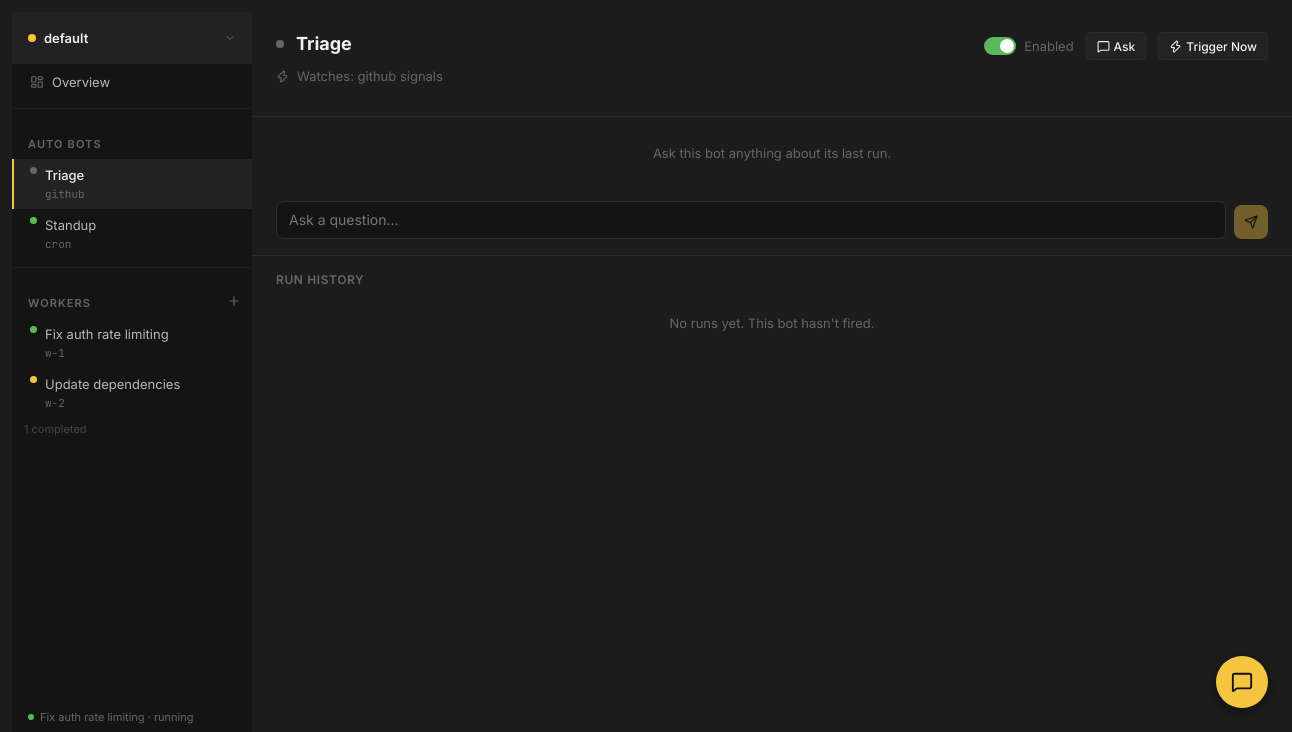
Test: App shell › switches between workers
Click the button "Fix auth rate limiting w-1" at (132, 343), box left=12, top=318, right=252, bottom=368
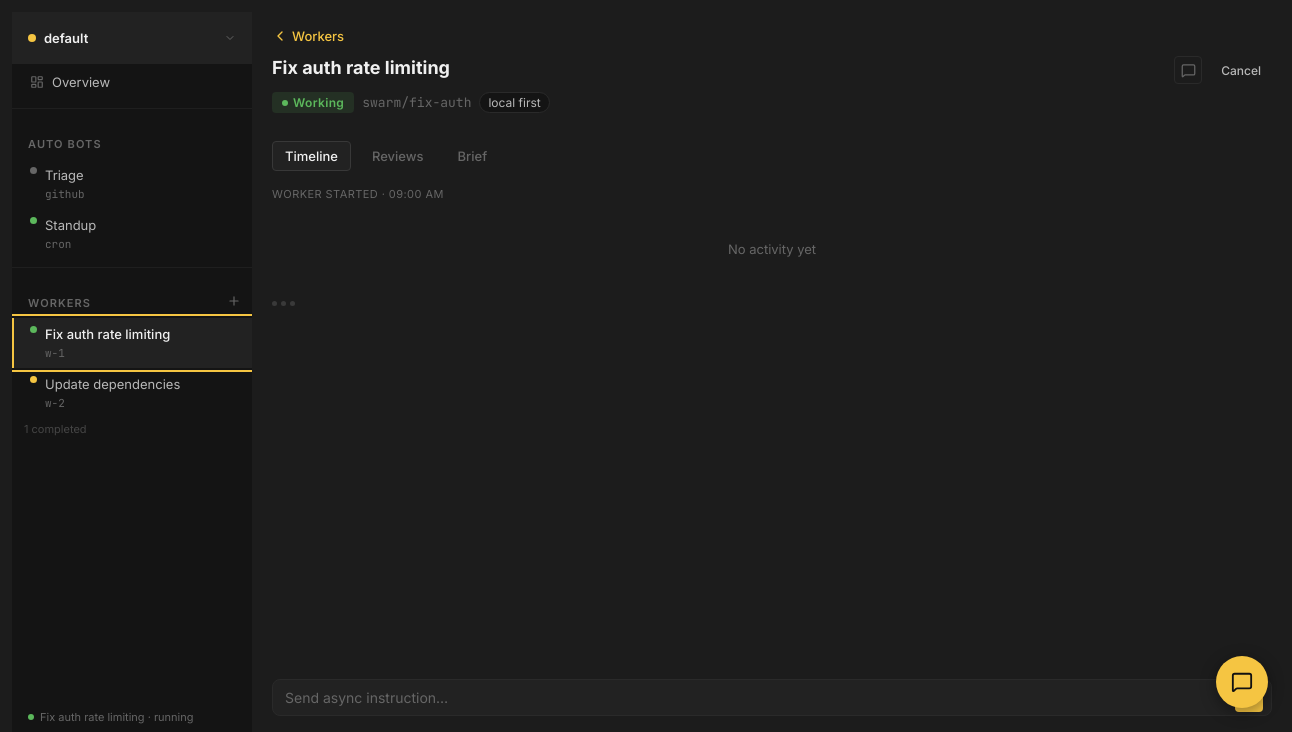
Expected: the heading "Fix auth rate limiting" is shown, left=272, top=57, right=450, bottom=78
Click the button "Update dependencies w-2" at (132, 393), box left=12, top=368, right=252, bottom=418
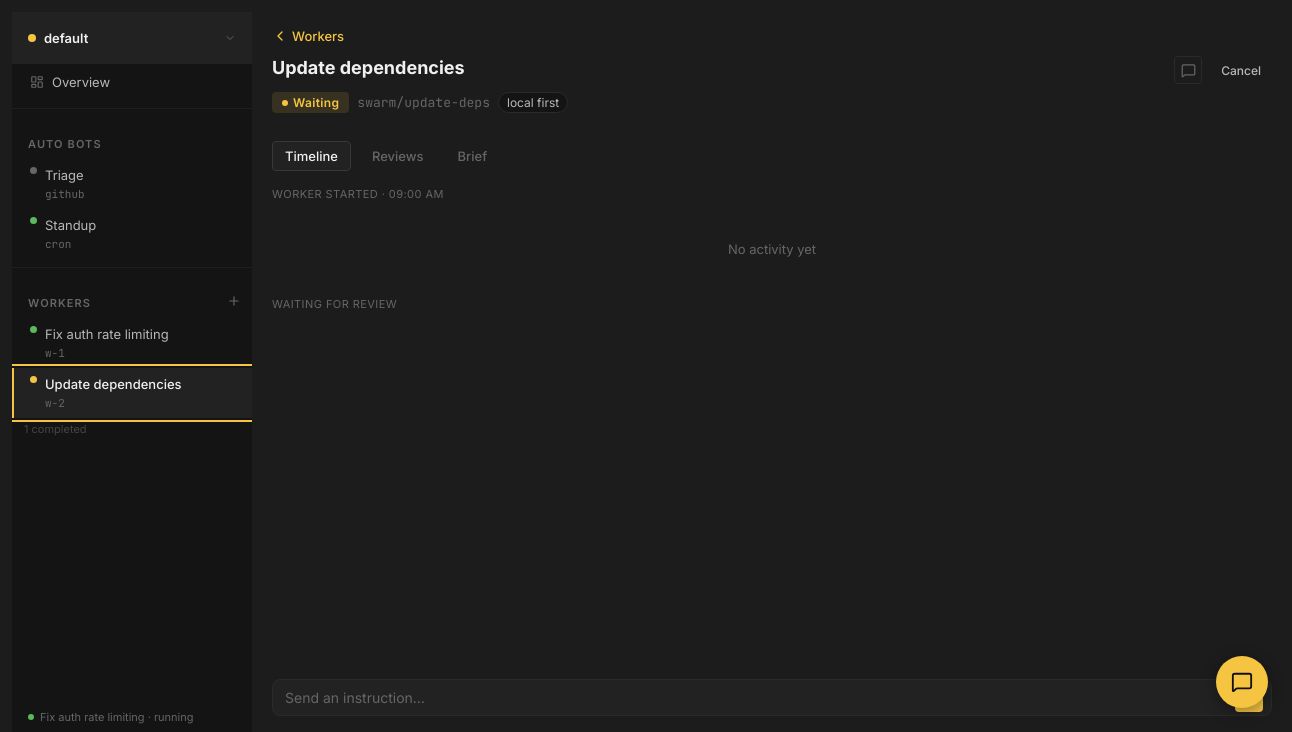
Expected: the heading "Update dependencies" is shown, left=272, top=57, right=465, bottom=78
